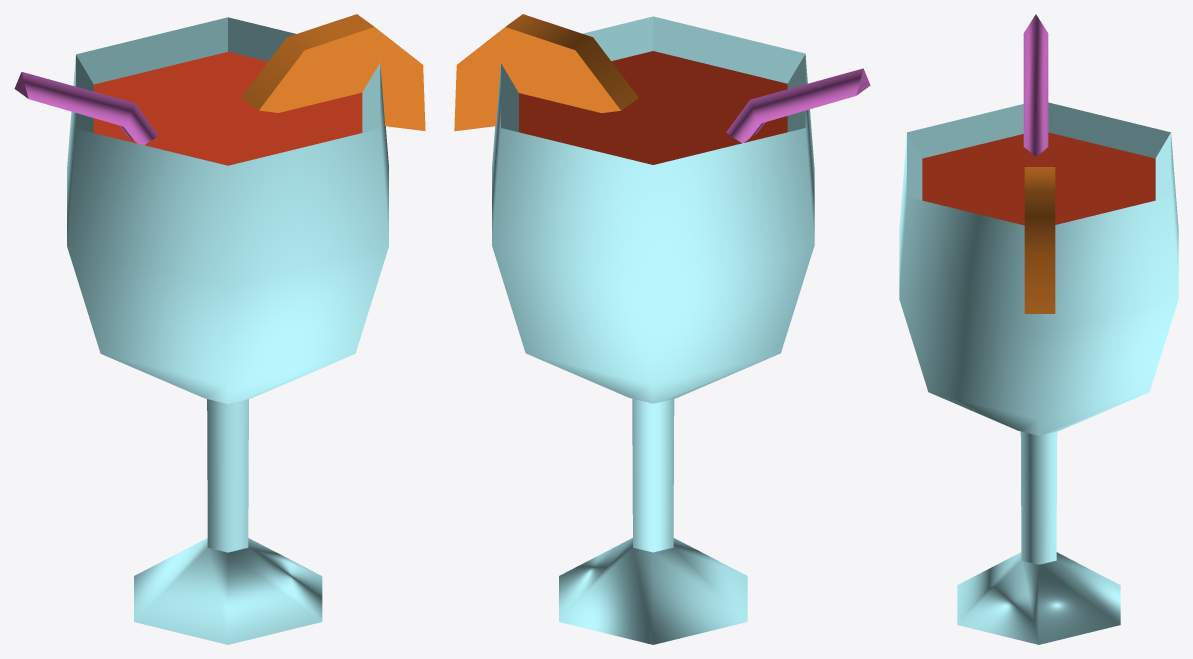
The model's file is Drink.fbx.
The picture shows the model from 3 angles, left to right: view 1: azimuth 30°, elevation 25°; view 2: azimuth 150°, elevation 25°; view 3: azimuth 270°, elevation 25°; orthographic projection. The views are drawn at different scales.
Visible parts, largest first — view 1: Drink; view 2: Drink; view 3: Drink.
Part boxes in pixels (x1,y1,x2,y2): Drink: (14,14,425,644); Drink: (454,14,870,644); Drink: (899,14,1178,644).
Bounding box in the file's own units: 142 × 197 × 99.34.
